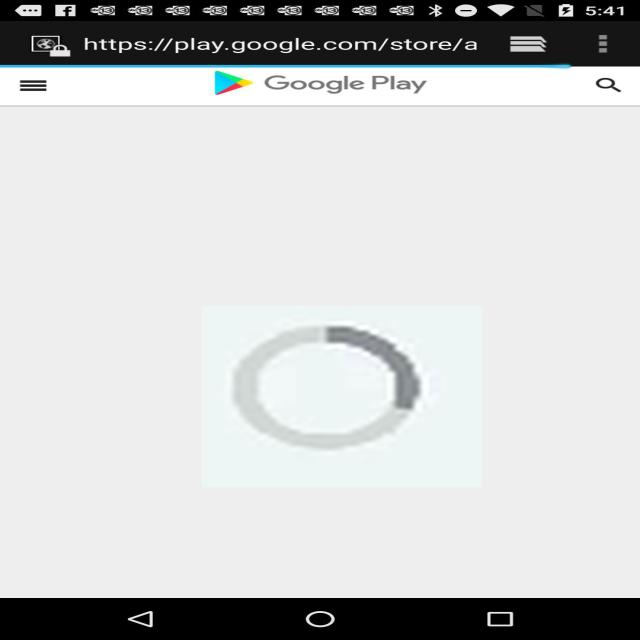misdirection: (202, 306, 482, 487)
